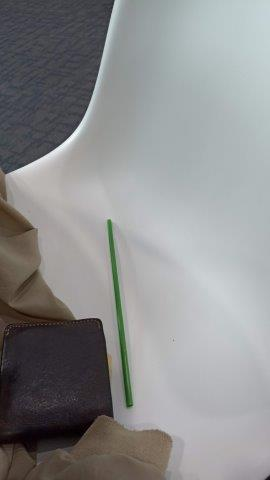sedotan: (107, 220, 132, 407)
